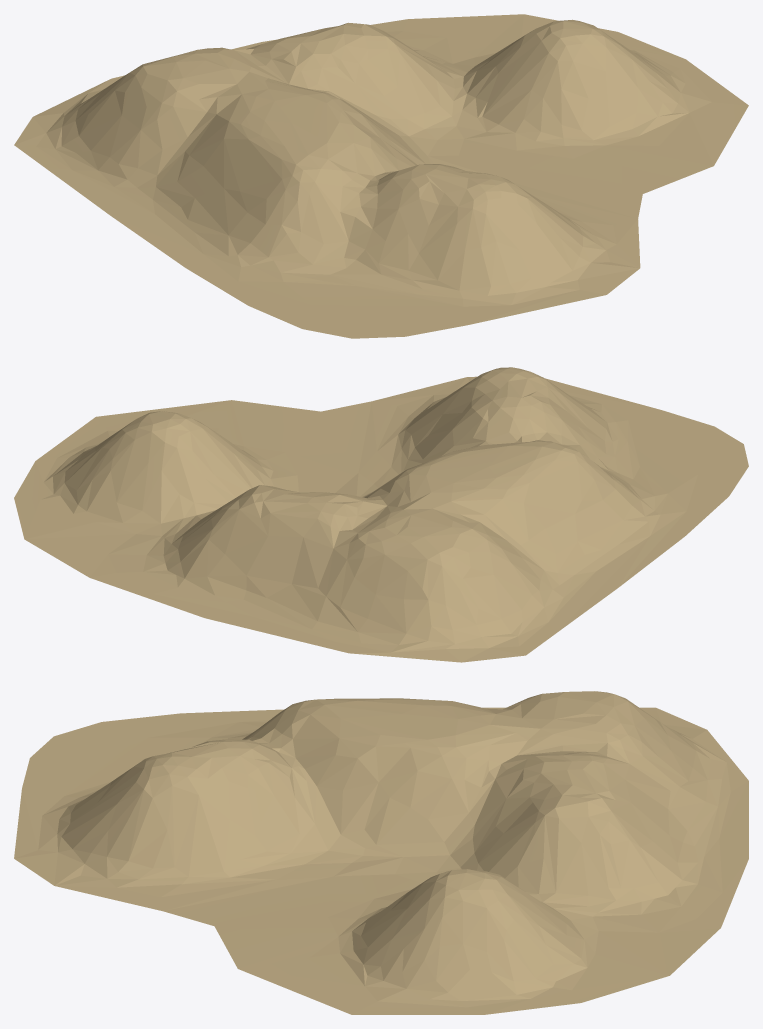
File: SM_Env_Beach_03.glb
The picture shows the model from 3 angles, top to bottom: view 1: azimuth 30°, elevation 25°; view 2: azimuth 150°, elevation 25°; view 3: azimuth 270°, elevation 25°; orthographic projection. The views are drawn at different scales.
Parts seen in each view (by area): view 1: SM_Env_Beach_03; view 2: SM_Env_Beach_03; view 3: SM_Env_Beach_03.
Boxes of the visible parts, left/top/right/bottom form: SM_Env_Beach_03: left=14, top=14, right=748, bottom=338; SM_Env_Beach_03: left=14, top=367, right=748, bottom=662; SM_Env_Beach_03: left=14, top=691, right=748, bottom=1014.
Bounding box in the file's own units: 0.3208 × 0.0369 × 0.3244.
Materials: 1 (1 with a texture image).
